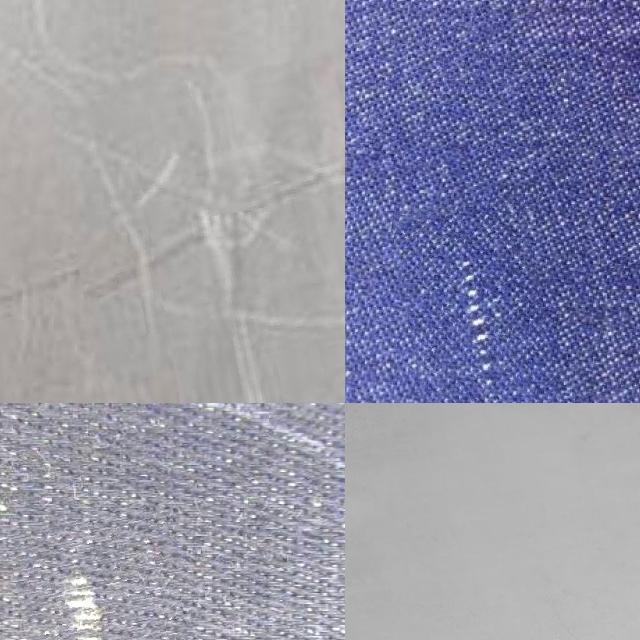Thread_other: (345, 403, 640, 640)
stains: (66, 64, 345, 403), (401, 197, 555, 403), (16, 509, 194, 640)
